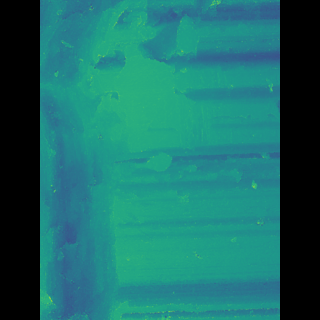Loch: (70, 0, 131, 320), (128, 0, 214, 167)
